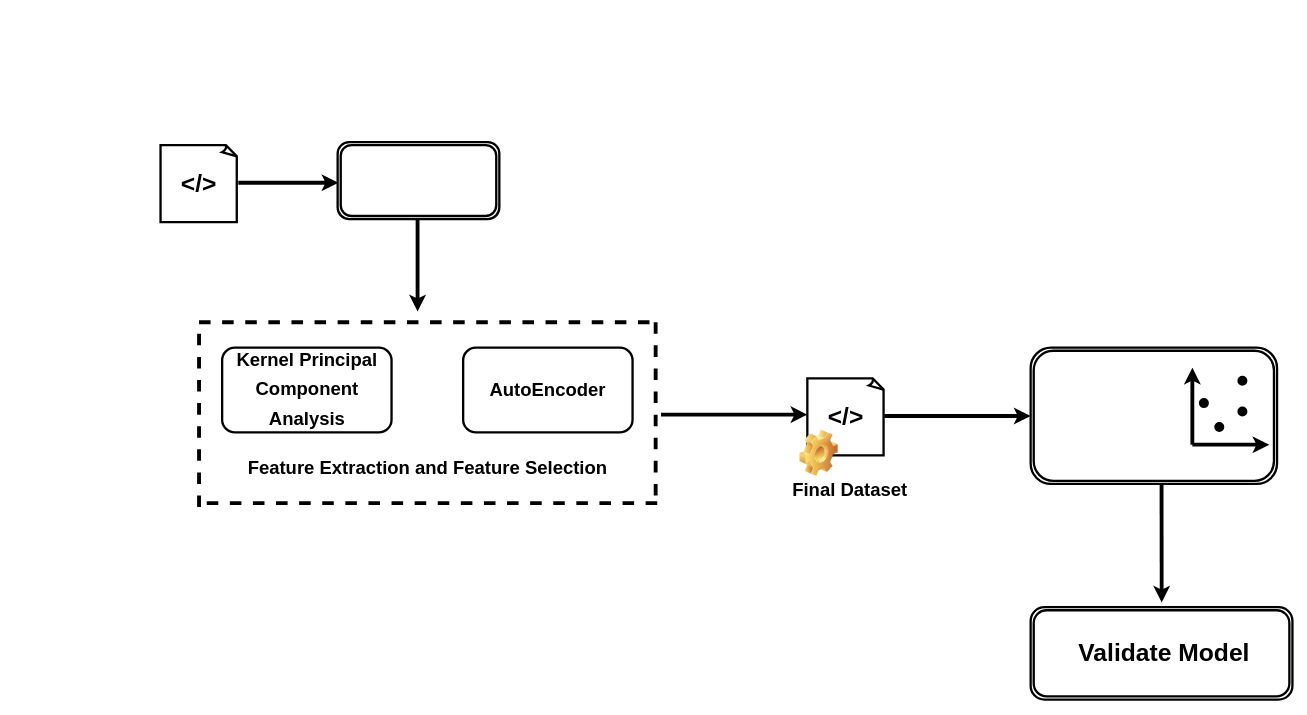
Image size: 1307x715. Some labels were removed from this diagram. Each missing label, with the centre of its shape:
"Gather Dataset" goes at point 418,180.
"Train Model" goes at point 1153,415.
